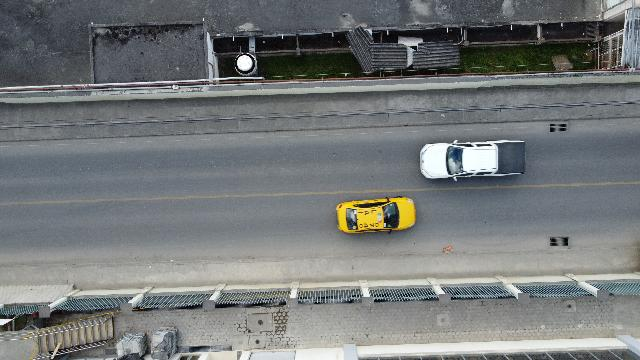Vehiculo: (420, 139, 526, 180), (336, 196, 416, 234)
